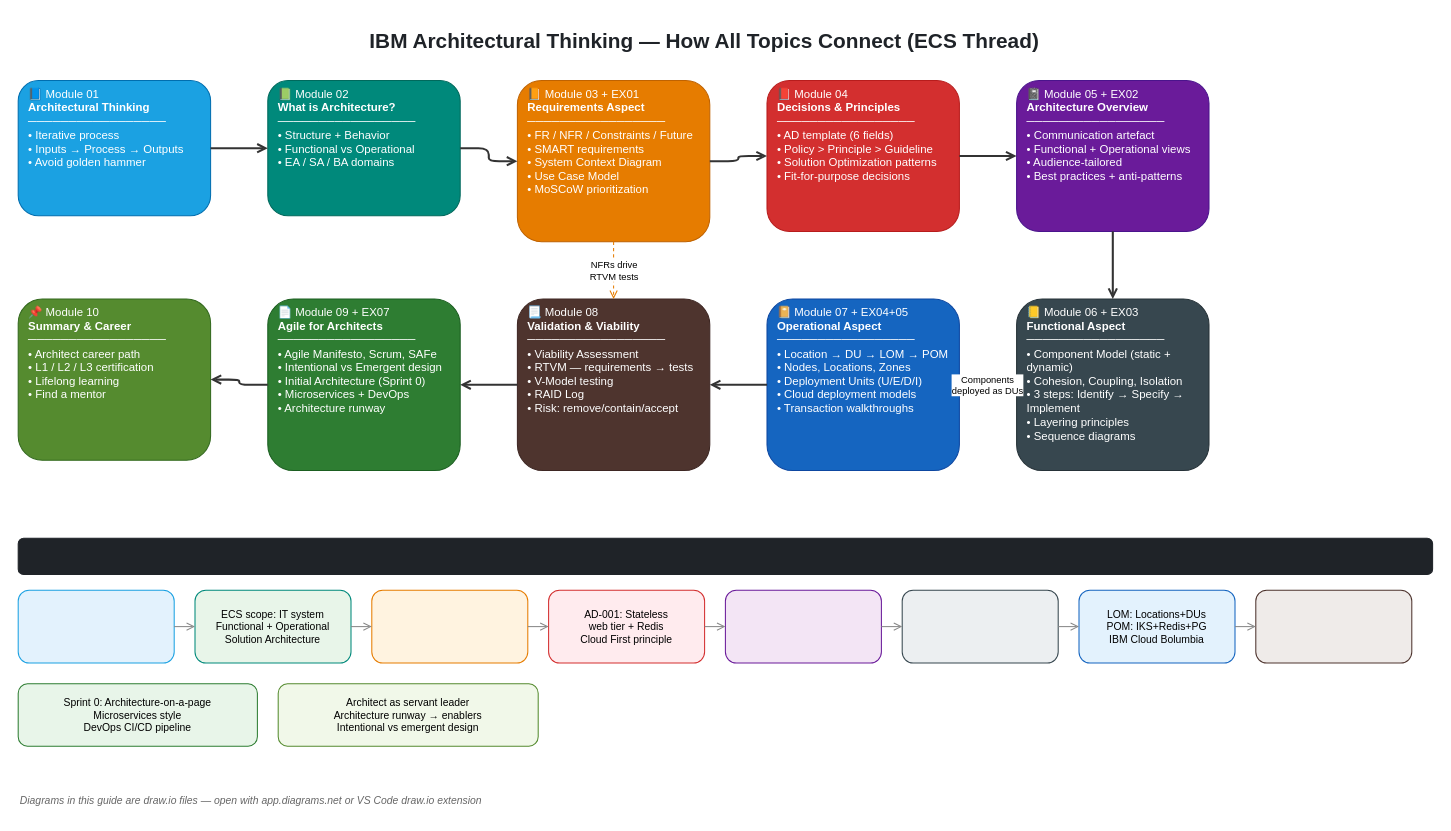
Some shapes in this 1451 by 831 pixel diagram are drawn without their labels. The shapes that lost their labels are listed below. From the top down, each one's centre as x and y in pixels, then its label:
point (725, 556): ECS Example Thread — How each module applies to the Electronic Census System
point (95, 626): Iterative thinking Avoid re-using last project's stack
point (449, 626): SCD, Use Case Model NFRs: HA/Perf/Sec 9.5M households
point (802, 626): AOD: Browser → ECS layers → DoS integration
point (979, 626): AuthService, FormEngine SubmissionService UC_01 Logon sequence
point (1333, 626): RTVM: NFRs→tests RAID: risks+deps Viability assessment
